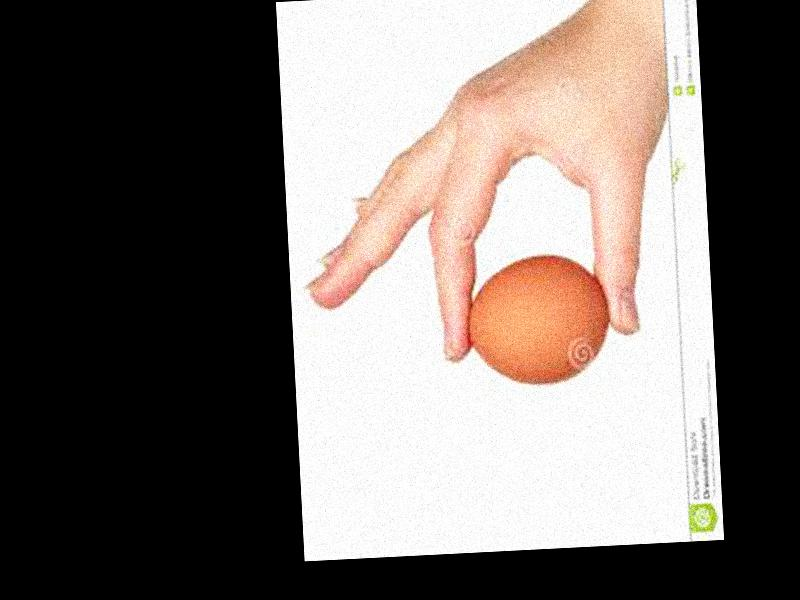Eggs: (464, 250, 613, 389)
